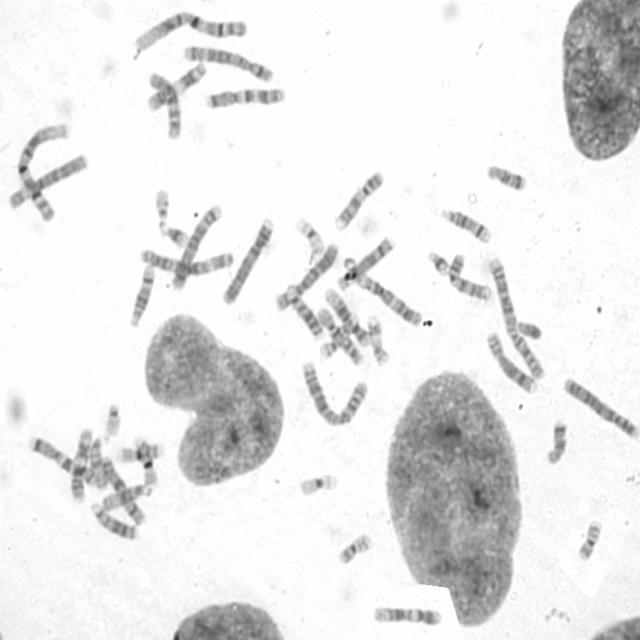A1: (17, 121, 70, 222), (134, 10, 248, 54)
A2: (488, 256, 546, 381), (301, 358, 371, 428)
A3: (356, 272, 423, 328), (140, 247, 236, 276)
B4: (222, 217, 276, 307), (563, 376, 640, 439)
B5: (169, 204, 224, 291), (183, 42, 275, 84)
C10: (318, 306, 367, 369), (148, 70, 182, 141)
C11: (146, 60, 208, 114), (68, 425, 96, 501)
C12: (322, 288, 370, 348), (369, 606, 443, 628)
C6: (272, 240, 340, 311), (8, 152, 88, 210)
C7: (27, 433, 96, 487), (203, 87, 287, 109)
C8: (484, 331, 540, 396), (335, 236, 396, 292)
C9: (332, 168, 384, 232), (448, 252, 492, 300)
D13: (285, 281, 324, 339), (90, 502, 140, 541)
D14: (432, 204, 493, 244), (128, 264, 156, 328)
D15: (101, 482, 153, 514), (88, 436, 108, 492)
E16: (133, 434, 160, 488), (118, 443, 164, 463)
E17: (316, 313, 359, 362), (368, 313, 394, 369)
E18: (486, 163, 527, 193), (546, 419, 567, 468)
F19: (292, 216, 325, 254), (296, 472, 340, 496)
F20: (575, 517, 604, 563), (337, 533, 374, 566)
G21: (160, 226, 191, 248), (427, 251, 450, 279)
G22: (154, 186, 170, 227), (104, 402, 122, 438)
X: (99, 456, 148, 526)
Y: (516, 318, 541, 342)
